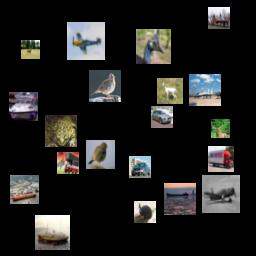airplane: (67, 22, 105, 60), (202, 175, 240, 213), (189, 74, 221, 106)
automobile: (129, 156, 151, 178), (151, 106, 173, 128)
bird: (136, 29, 171, 64), (89, 70, 121, 102), (86, 140, 115, 169), (134, 201, 156, 223)
deer: (157, 78, 183, 104), (211, 119, 230, 138), (21, 40, 40, 59)
frog: (45, 115, 77, 147)
ship: (35, 215, 70, 250), (164, 183, 196, 215), (10, 175, 39, 204), (9, 92, 38, 121)
truck: (208, 146, 234, 172), (208, 7, 230, 29), (57, 152, 79, 174)
